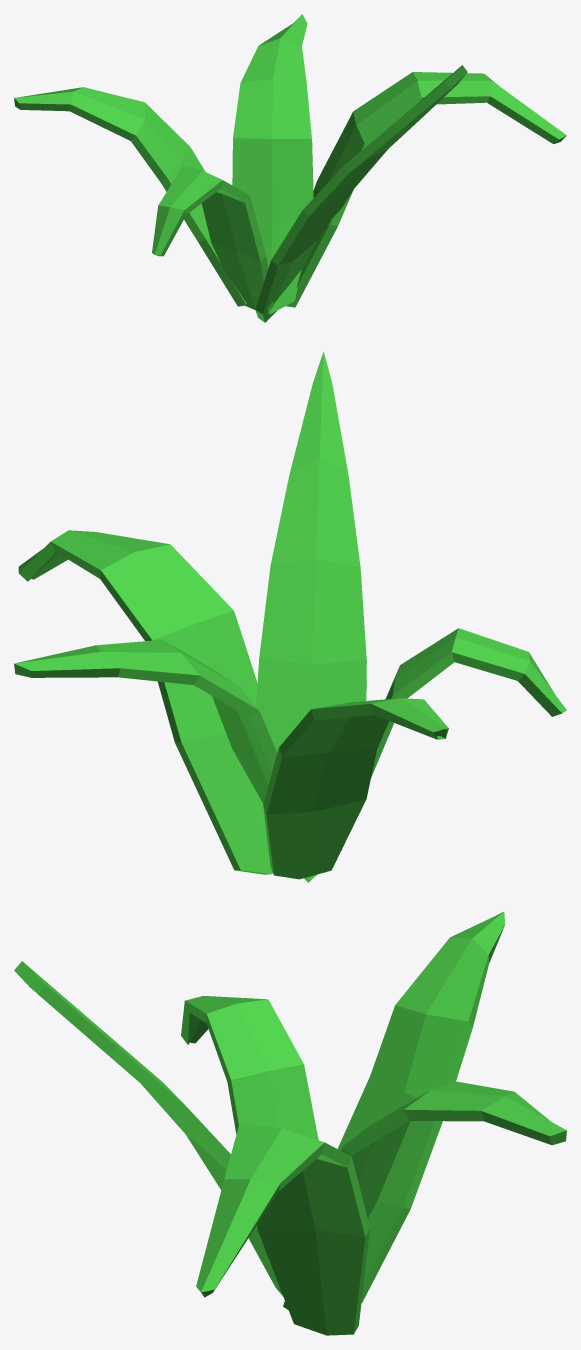
File: GrassPoll2.fbx
3 views of the same model, one above another, from view 1: azimuth 30°, elevation 25°; view 2: azimuth 150°, elevation 25°; view 3: azimuth 270°, elevation 25° (orthographic). The views are drawn at different scales.
Parts seen in each view (by area): view 1: GrassPoll.001; view 2: GrassPoll.001; view 3: GrassPoll.001.
Boxes of the visible parts, <box> form: GrassPoll.001: <box>14,14,566,322</box>; GrassPoll.001: <box>14,351,566,882</box>; GrassPoll.001: <box>14,911,566,1335</box>.
Size of the model in its own units: 280 by 189 by 222.
